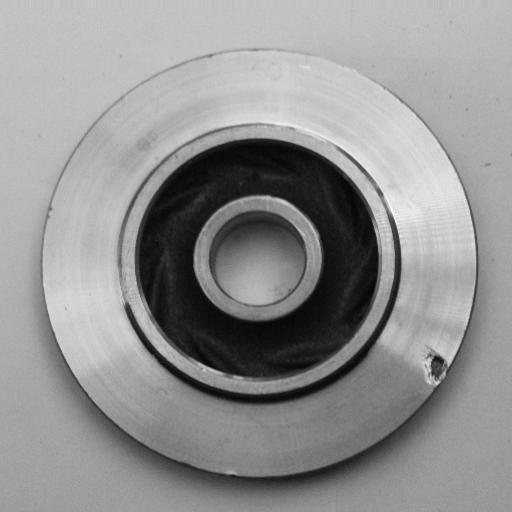crack: (417, 338, 464, 398)
scratch: (112, 233, 142, 313)
unpolished_casting: (39, 45, 479, 482)
